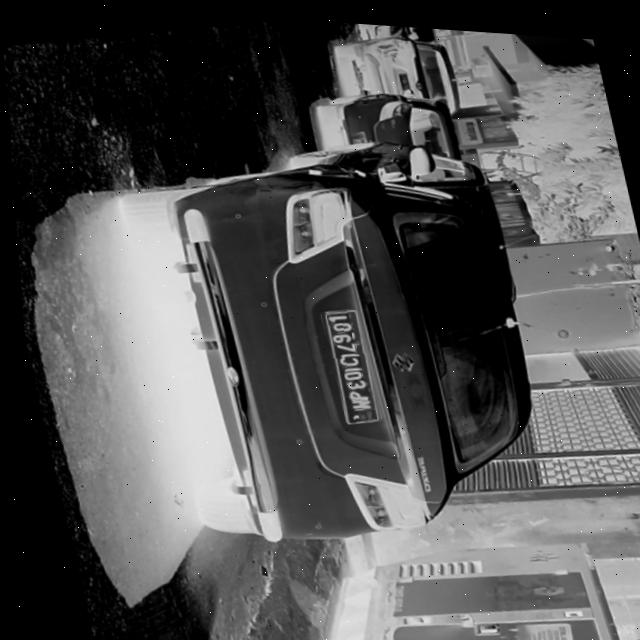0: (325, 317, 348, 331), (337, 365, 357, 379)
1: (321, 308, 345, 320)
3: (339, 374, 361, 387)
7: (330, 337, 351, 351)
9: (326, 327, 348, 341)
C: (332, 350, 355, 365)
IND: (350, 403, 370, 418)
Indian_registered: (318, 306, 370, 420)
M: (342, 394, 366, 408)
P: (341, 383, 363, 397)
